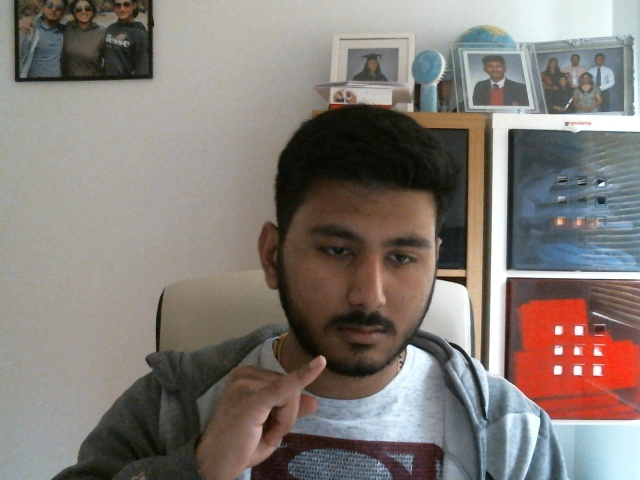bad: (205, 352, 327, 464)
